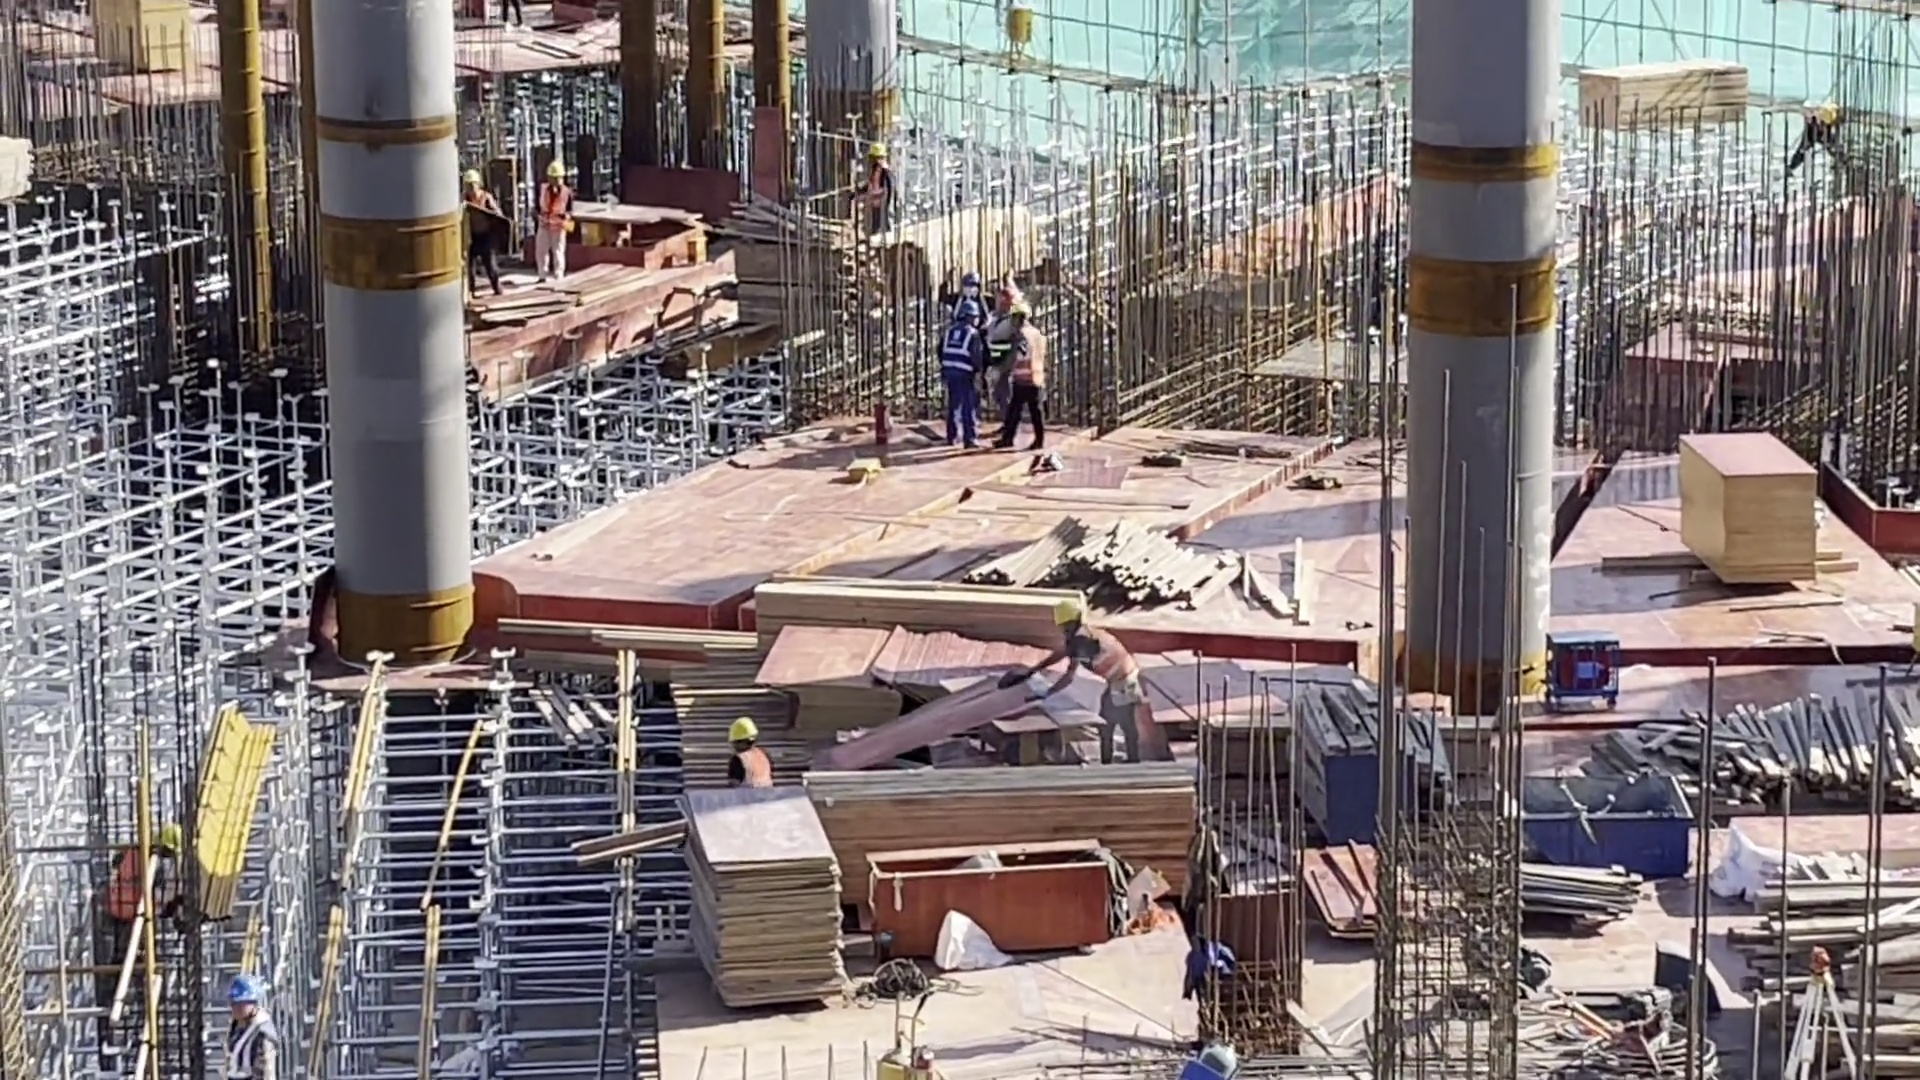board: (687, 790, 849, 1008), (1673, 431, 1816, 591), (747, 577, 880, 690), (1302, 838, 1386, 943)
cutter: (933, 666, 1099, 771), (555, 197, 710, 273)
ebox: (1000, 2, 1037, 65), (1900, 597, 1920, 686)
helmet: (223, 980, 266, 1010), (726, 719, 762, 745), (1049, 599, 1084, 623), (1005, 303, 1035, 320), (462, 167, 485, 186), (959, 270, 984, 287), (957, 300, 981, 318), (867, 141, 886, 157), (547, 163, 561, 178)
hopper: (1509, 769, 1692, 871)
person: (1049, 596, 1143, 764), (89, 823, 181, 973), (999, 299, 1051, 456), (938, 301, 984, 448), (459, 164, 507, 299), (1783, 93, 1863, 173), (223, 974, 278, 1080), (533, 160, 572, 286), (724, 717, 774, 790), (863, 142, 893, 210), (937, 265, 983, 305), (502, 1, 522, 24)
vest: (1070, 623, 1140, 705), (220, 1017, 278, 1080), (938, 324, 983, 382), (1008, 325, 1044, 386), (731, 743, 773, 789), (535, 179, 567, 232), (865, 161, 889, 207), (462, 187, 488, 207)
wood: (1551, 694, 1920, 828), (1729, 863, 1920, 1080), (800, 763, 1198, 850), (957, 515, 1300, 613), (722, 199, 871, 343), (751, 583, 1089, 642), (873, 207, 1040, 298), (1577, 61, 1750, 132), (1, 131, 35, 200)
